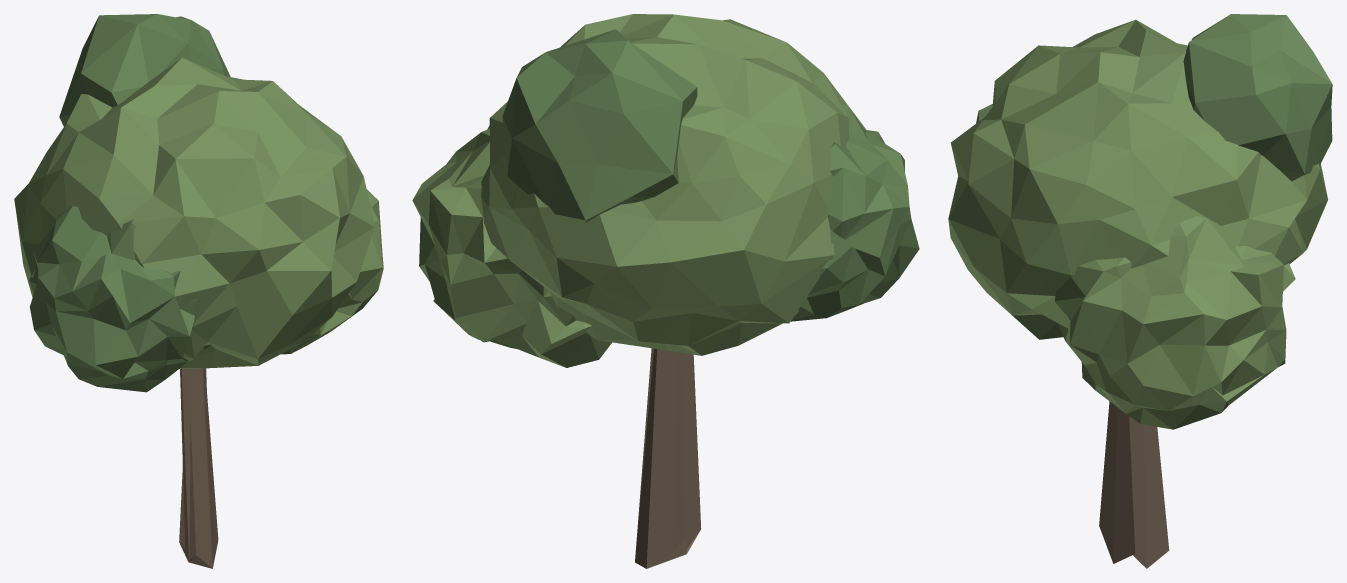
The model's file is SM_Tree_D.fbx.
The picture shows the model from 3 angles, left to right: view 1: azimuth 30°, elevation 25°; view 2: azimuth 150°, elevation 25°; view 3: azimuth 270°, elevation 25°; orthographic projection. The views are drawn at different scales.
Visible parts, largest first — view 1: SM_Tree_D; view 2: SM_Tree_D; view 3: SM_Tree_D.
Boxes of the visible parts, x1,y1,x2,y2 form: SM_Tree_D: [14, 14, 383, 568]; SM_Tree_D: [412, 14, 919, 568]; SM_Tree_D: [948, 14, 1332, 568].
Bounding box in the file's own units: 6.01 × 7.81 × 5.04.
